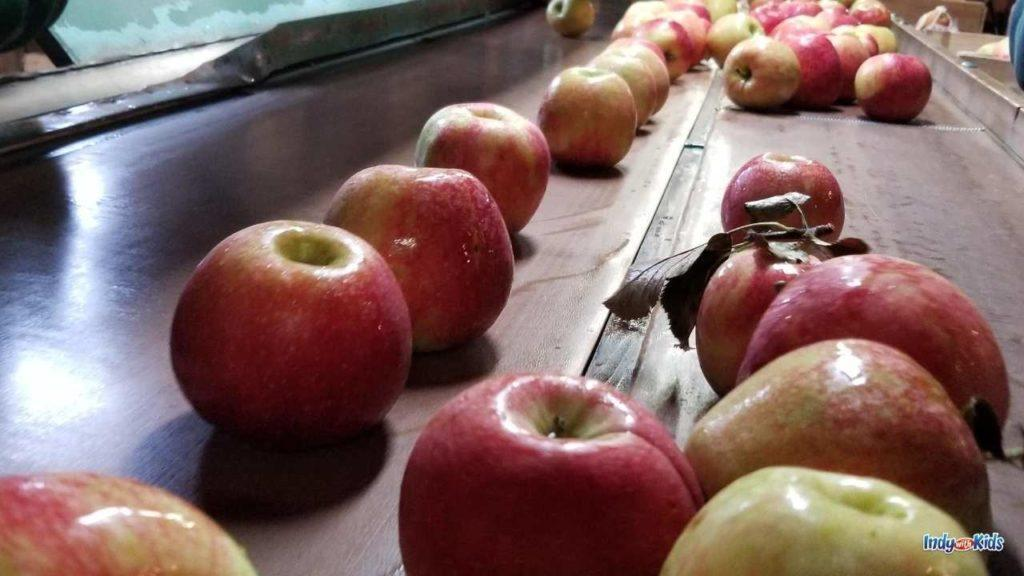apple: (397, 364, 706, 575), (166, 220, 411, 443), (647, 448, 976, 572), (322, 161, 514, 358), (413, 101, 552, 234), (535, 65, 635, 174), (721, 35, 802, 113), (852, 53, 933, 124)
